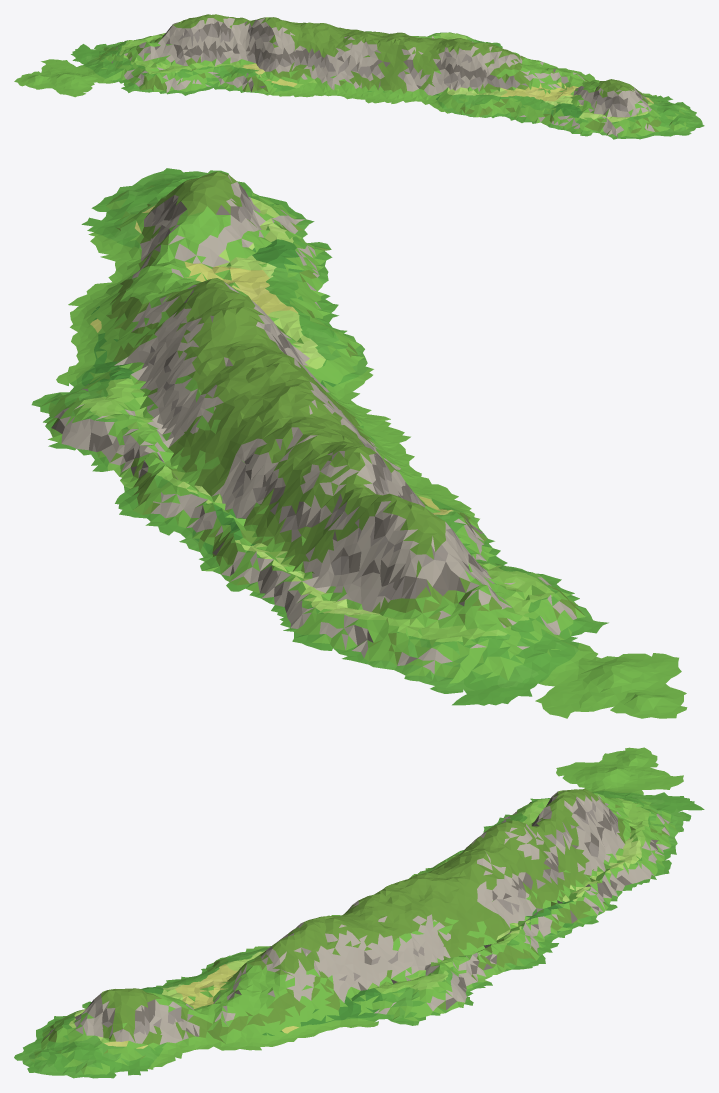
Rendered from Isl-long3-Relief.fbx.
3 renders of one model, top to bottom at view 1: azimuth 30°, elevation 25°; view 2: azimuth 150°, elevation 25°; view 3: azimuth 270°, elevation 25°, orthographic. The views are drawn at different scales.
Visible parts, largest first — view 1: Isl-long3-Relief-c21, Isl-long3-Relief-c12, Isl-long3-Relief-c11, Isl-long3-Relief-c20, Isl-long3-Relief-c02; view 2: Isl-long3-Relief-c12, Isl-long3-Relief-c21, Isl-long3-Relief-c22, Isl-long3-Relief-c11, Isl-long3-Relief-c02, Isl-long3-Relief-c20; view 3: Isl-long3-Relief-c21, Isl-long3-Relief-c12, Isl-long3-Relief-c22, Isl-long3-Relief-c20.
Part boxes in pixels (x1,y1,x2,y2): Isl-long3-Relief-c21: [346, 29, 699, 139]; Isl-long3-Relief-c12: [28, 14, 345, 97]; Isl-long3-Relief-c11: [252, 34, 391, 103]; Isl-long3-Relief-c20: [621, 117, 704, 139]; Isl-long3-Relief-c02: [14, 74, 47, 89]; Isl-long3-Relief-c12: [199, 416, 681, 718]; Isl-long3-Relief-c21: [31, 171, 390, 440]; Isl-long3-Relief-c22: [45, 408, 292, 554]; Isl-long3-Relief-c11: [294, 399, 482, 532]; Isl-long3-Relief-c02: [630, 687, 687, 718]; Isl-long3-Relief-c20: [142, 168, 301, 217]; Isl-long3-Relief-c21: [48, 872, 446, 1078]; Isl-long3-Relief-c12: [443, 755, 704, 927]; Isl-long3-Relief-c22: [443, 876, 574, 1012]; Isl-long3-Relief-c20: [14, 1021, 56, 1075].
Bounding box in the file's own units: 119 × 11.55 × 105.
